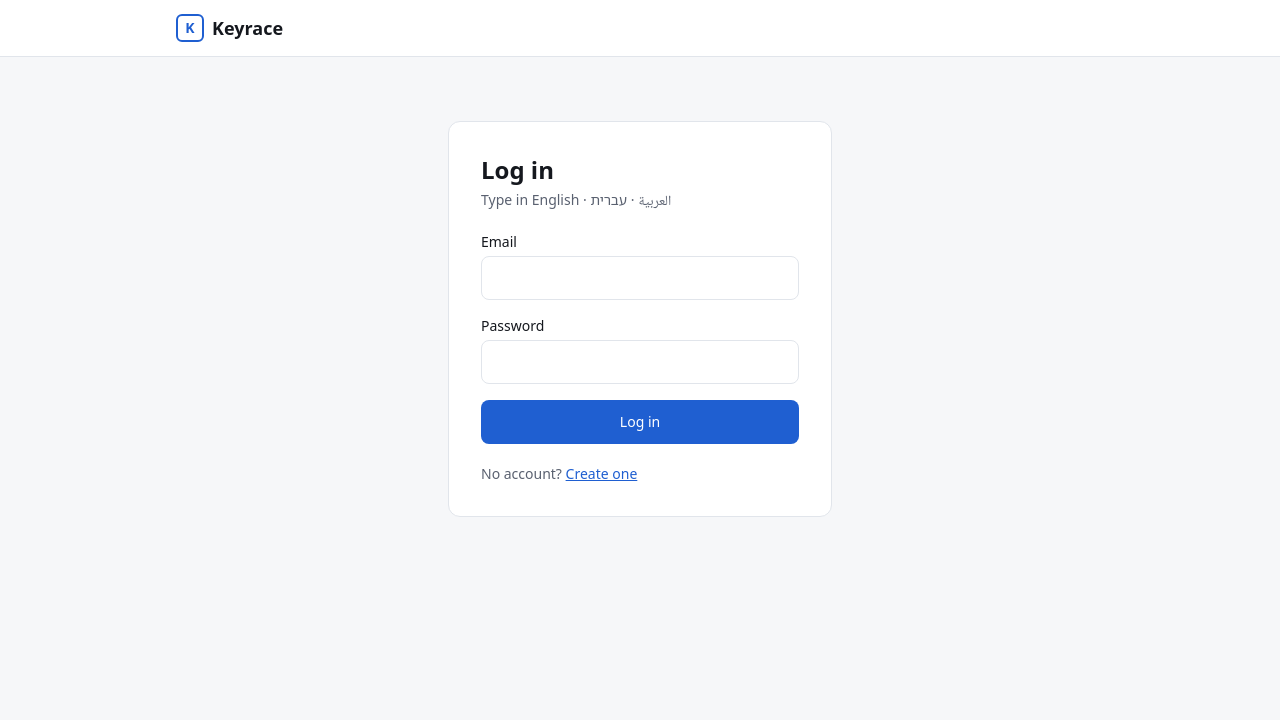
auth flow › shows the API error message on a bad login
The width and height of the screenshot is (1280, 720).
Expected: the heading "Log in" is shown, [481, 153, 554, 186]
Step 1. Type "nell@example.com" into the field labelled "Email" → (640, 278), box [481, 256, 799, 300]
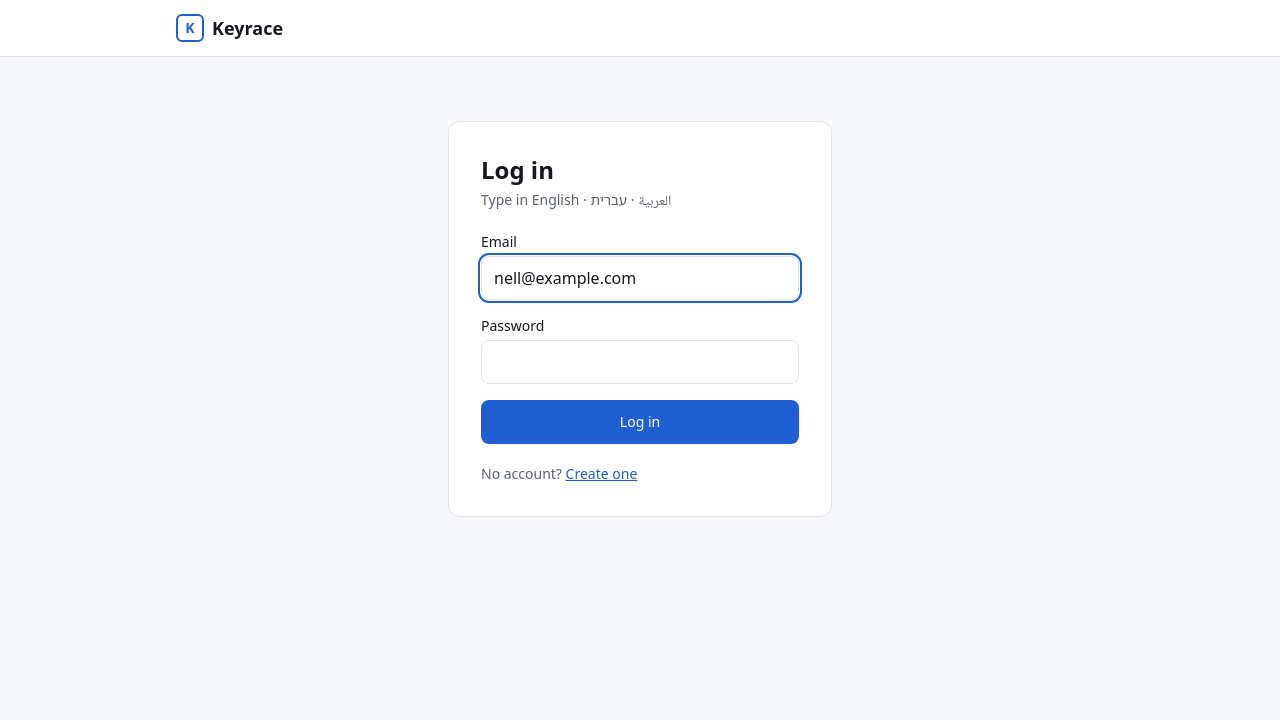
Step 2. Type "wrong wrong wrong" into the password field labelled "Password" → (640, 362), box [481, 340, 799, 384]
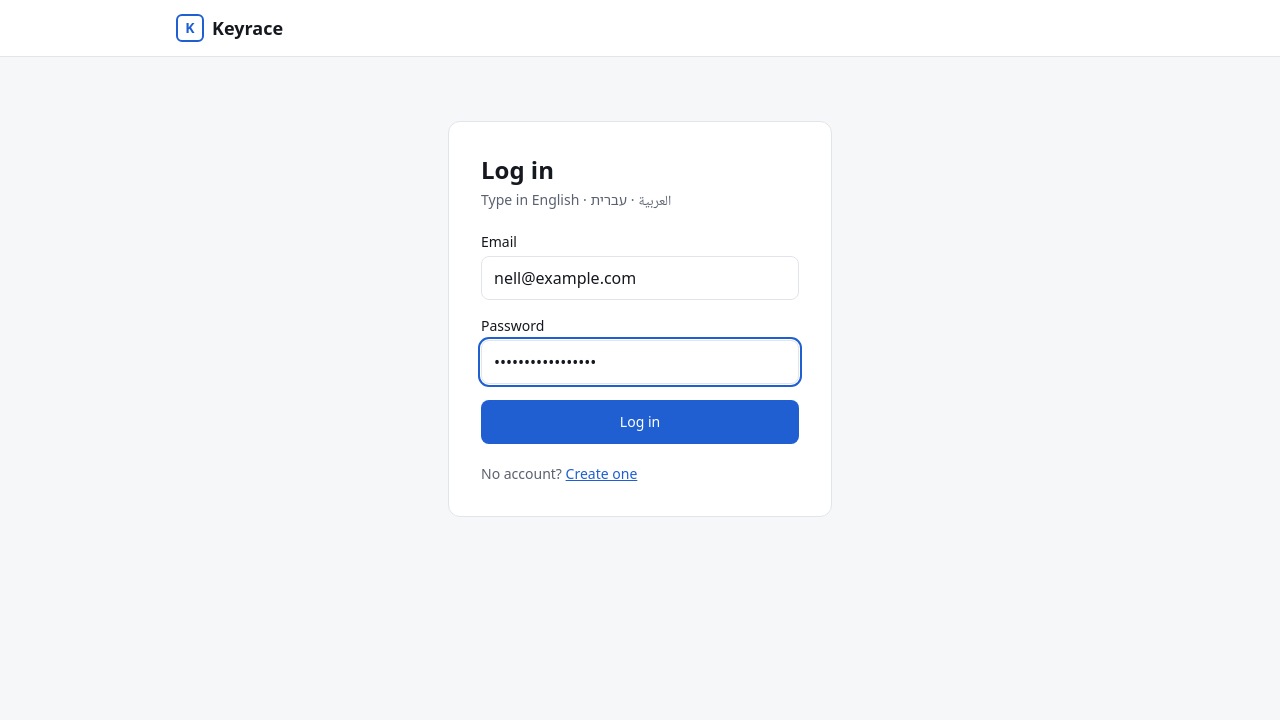
Step 3. Click the button "Log in" → (640, 422), box [481, 400, 799, 444]
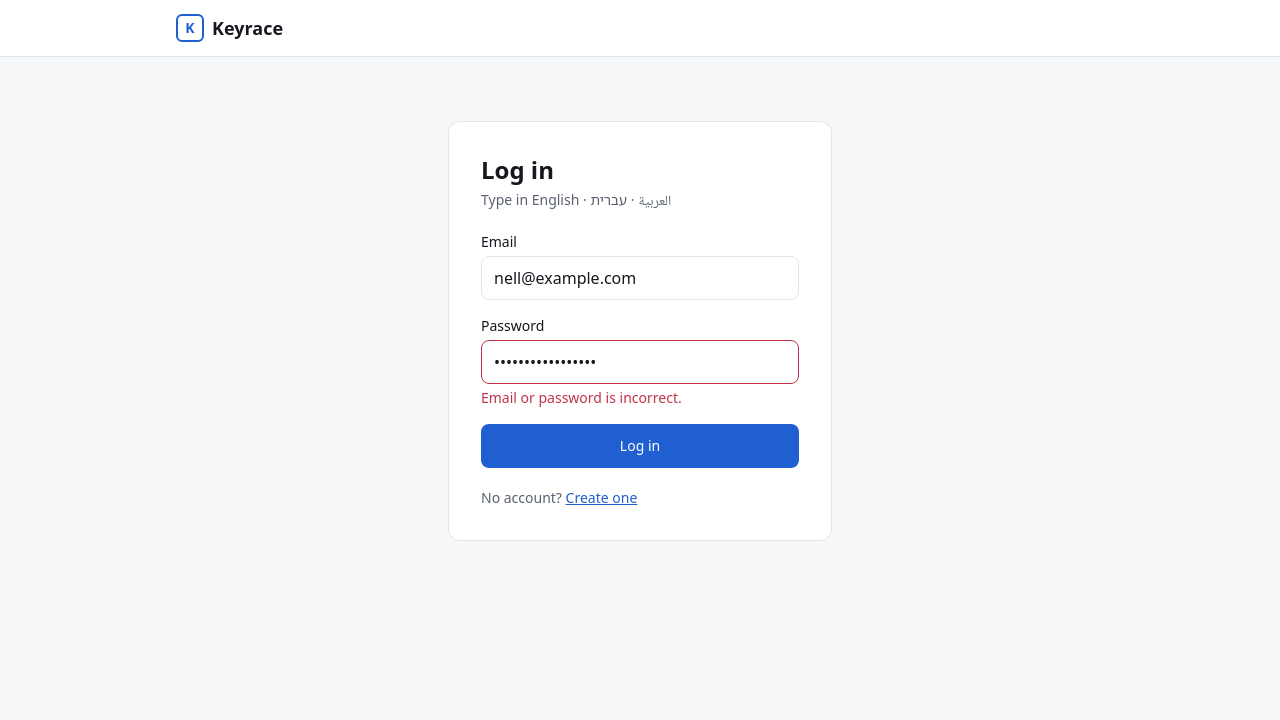
Now the message shows "Email or password is incorrect", box [481, 388, 682, 407]
